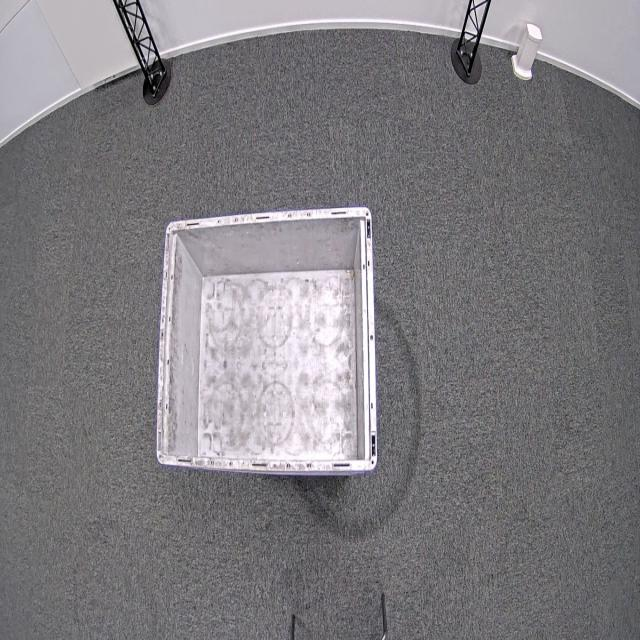Roll4G: (156, 202, 379, 477)
